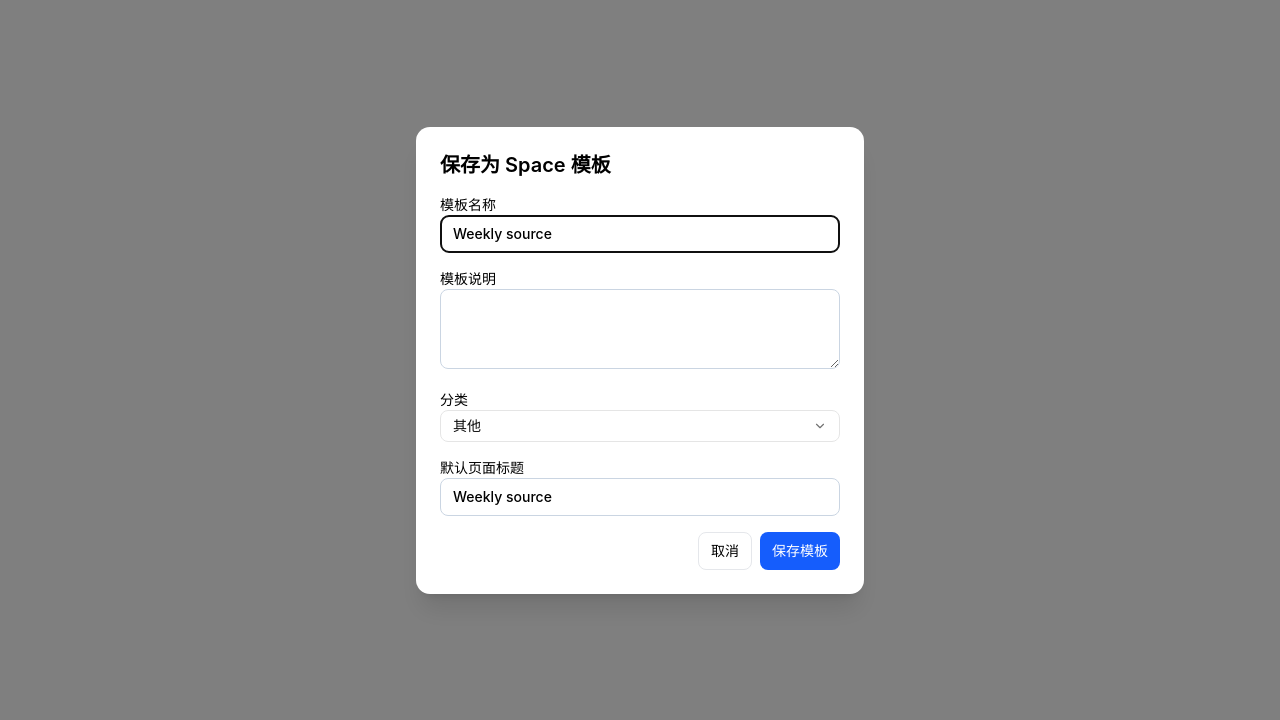
Test: SavePageAsTemplateDialog › keeps entered metadata after a conflict
This screenshot has width=1280, height=720.
Replace the text in the field labelled "模板名称" with "My format". click: coordinates (640, 234)
box: [440,214,840,252]
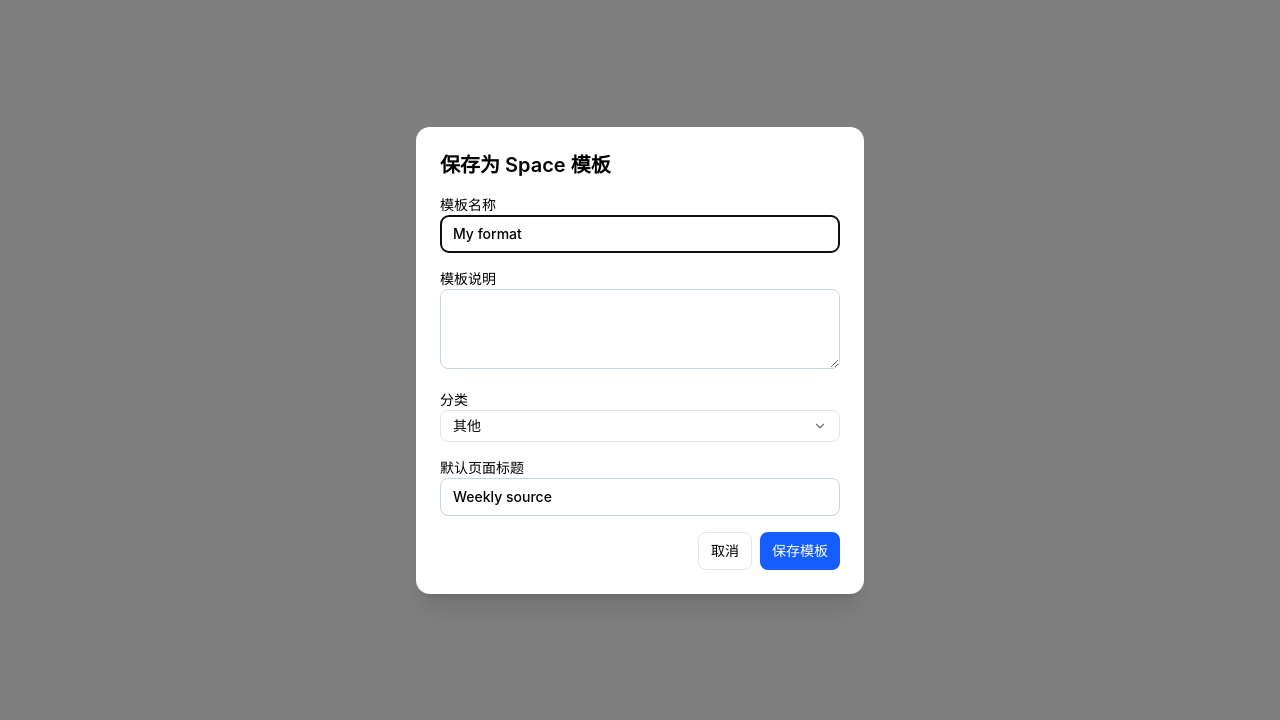
Click the button "保存模板". click: coordinates (800, 550)
box: [760,532,840,570]
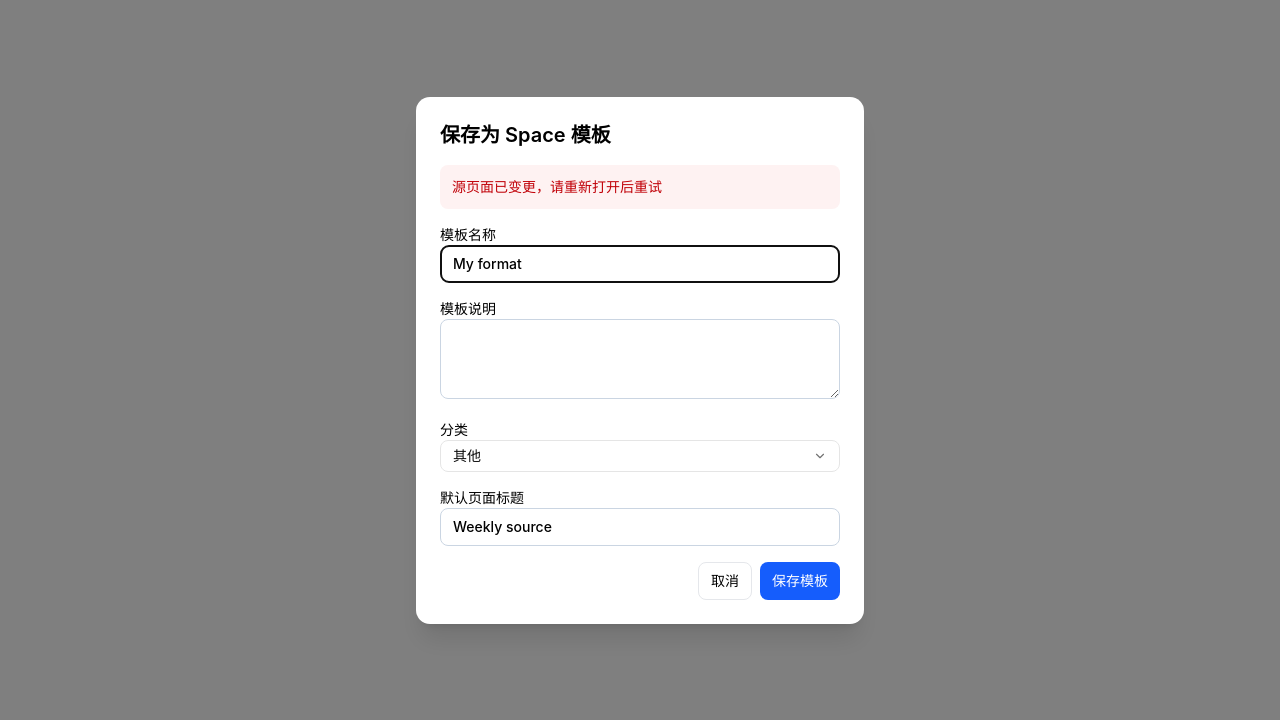
Now the message reads "源页面已变更，请重新打开后重试", box [452,178,662,194]
